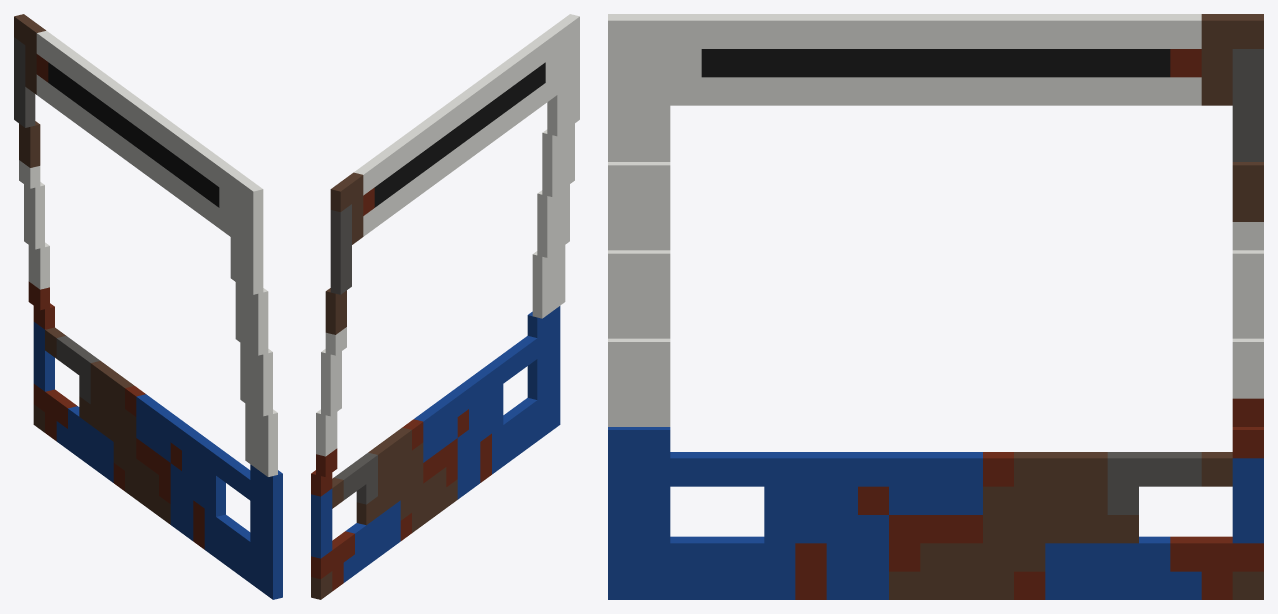
Rendered from burnt_out_bus_front.glb.
The picture shows the model from 3 angles, left to right: view 1: azimuth 30°, elevation 25°; view 2: azimuth 150°, elevation 25°; view 3: azimuth 270°, elevation 25°; orthographic projection. The views are drawn at different scales.
Visible parts, largest first — view 1: body:compound; view 2: body:compound; view 3: body:compound.
Part boxes in pixels (bbox=[...]): body:compound: bbox=[14, 14, 282, 599]; body:compound: bbox=[311, 14, 579, 599]; body:compound: bbox=[608, 14, 1263, 599].
Bounding box in the file's own units: 0.1875 × 2.5 × 2.62.
